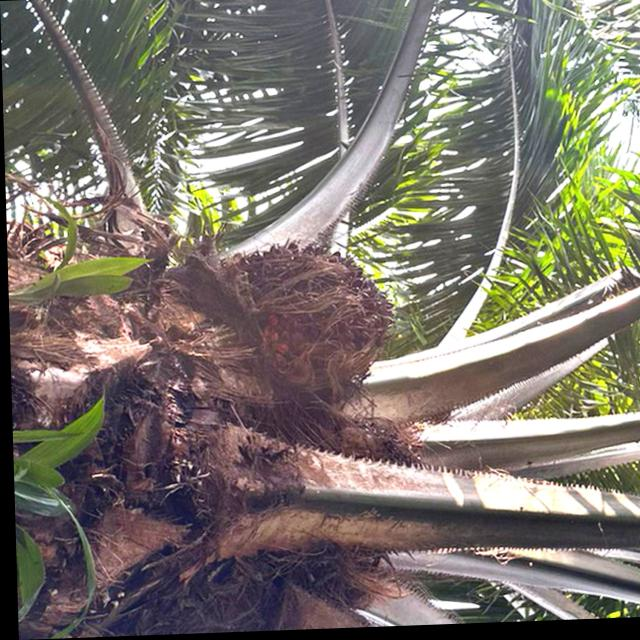ripe: (211, 228, 407, 406)
